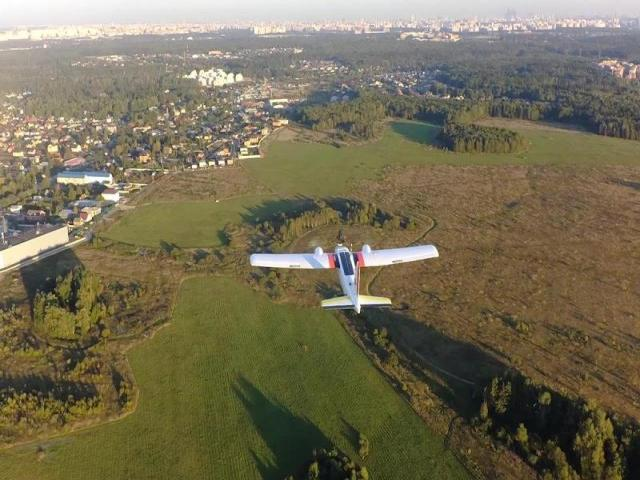hedef: (239, 225, 452, 322)
